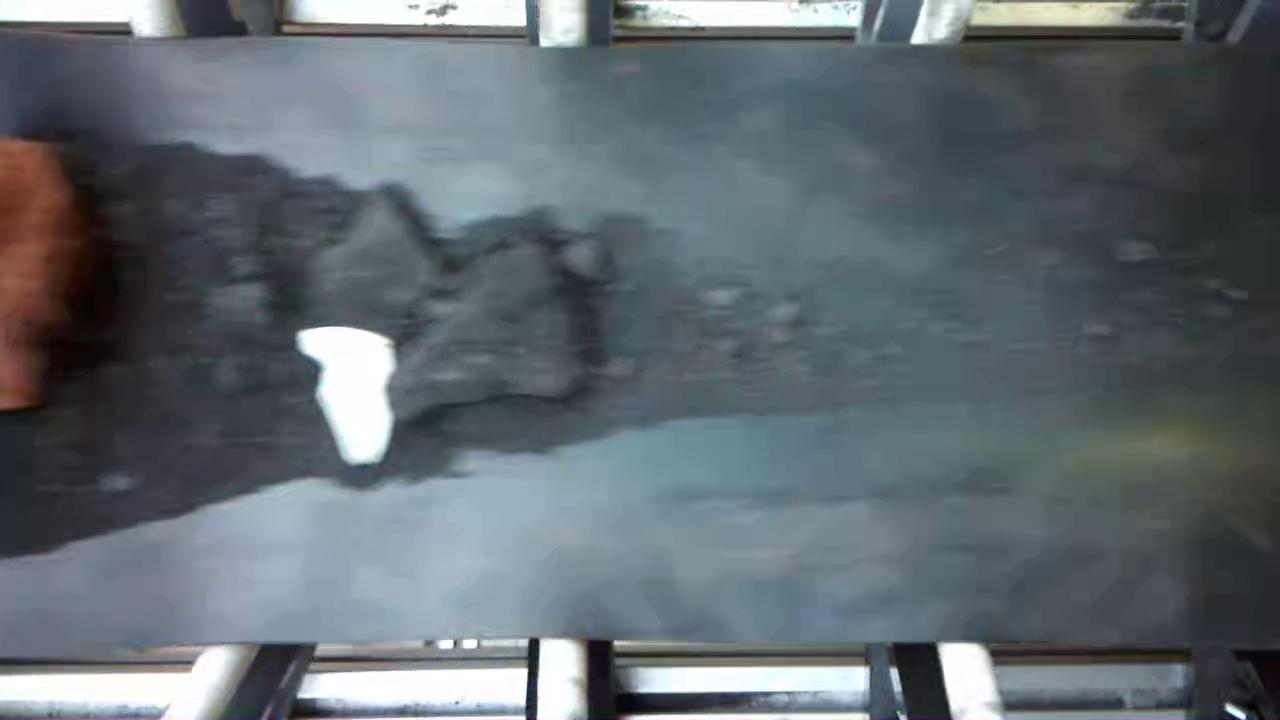conveyor: (8, 53, 1280, 630)
